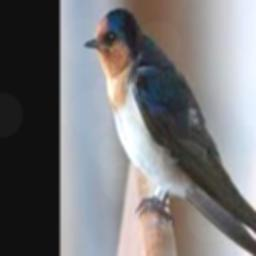Swallow: (83, 6, 256, 256)
